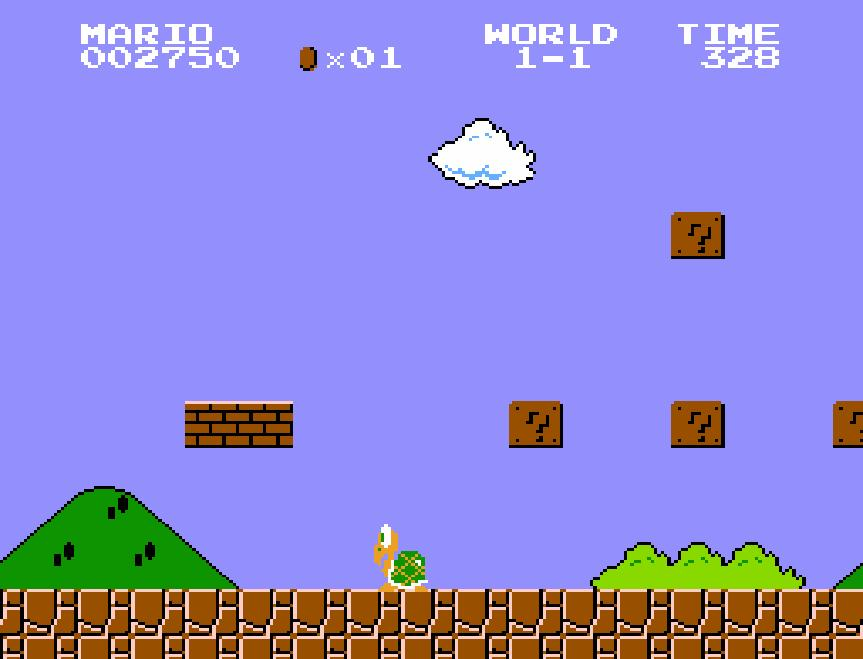little_mario: (328, 508, 392, 594)
